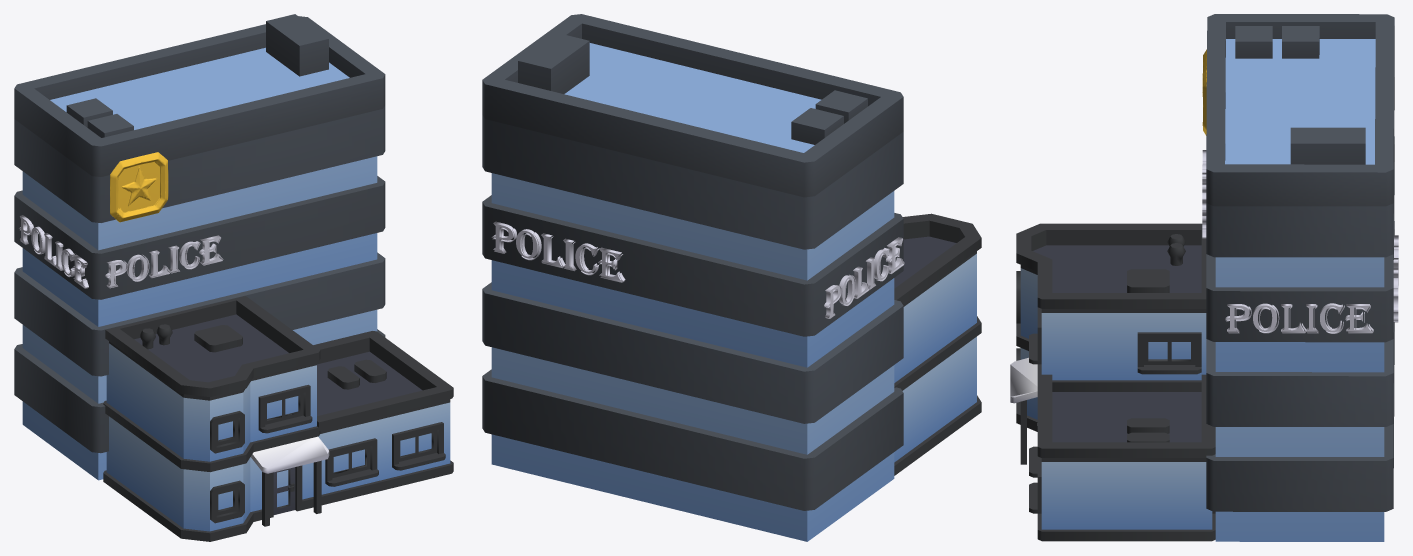
Rendered from police.glb.
3 views of the same model, side by side, from view 1: azimuth 30°, elevation 25°; view 2: azimuth 150°, elevation 25°; view 3: azimuth 270°, elevation 25° (orthographic). The views are drawn at different scales.
Parts seen in each view (by area): view 1: Mesh_0.002, building-e, low-detail-building-wide-b, 文本.003, 文本; view 2: Mesh_0.002, low-detail-building-wide-b, building-e, 文本.002, 文本; view 3: Mesh_0.002, building-e, low-detail-building-wide-b, 文本.001.
Part boxes in pixels (x1,y1,x2,y2): Mesh_0.002: (14, 14, 385, 480); building-e: (103, 296, 453, 541); low-detail-building-wide-b: (14, 21, 359, 468); 文本.003: (106, 240, 221, 288); 文本: (19, 216, 88, 288); Mesh_0.002: (482, 14, 904, 541); low-detail-building-wide-b: (485, 23, 897, 541); building-e: (894, 213, 981, 475); 文本.002: (491, 223, 625, 282); 文本: (825, 243, 903, 318); Mesh_0.002: (1202, 14, 1398, 541); building-e: (1010, 223, 1215, 541); low-detail-building-wide-b: (1214, 22, 1365, 226); 文本.001: (1225, 305, 1370, 333).
Bounding box in the file's own units: 1.27 × 1.43 × 1.29.
Materials: 7 (3 with a texture image).
